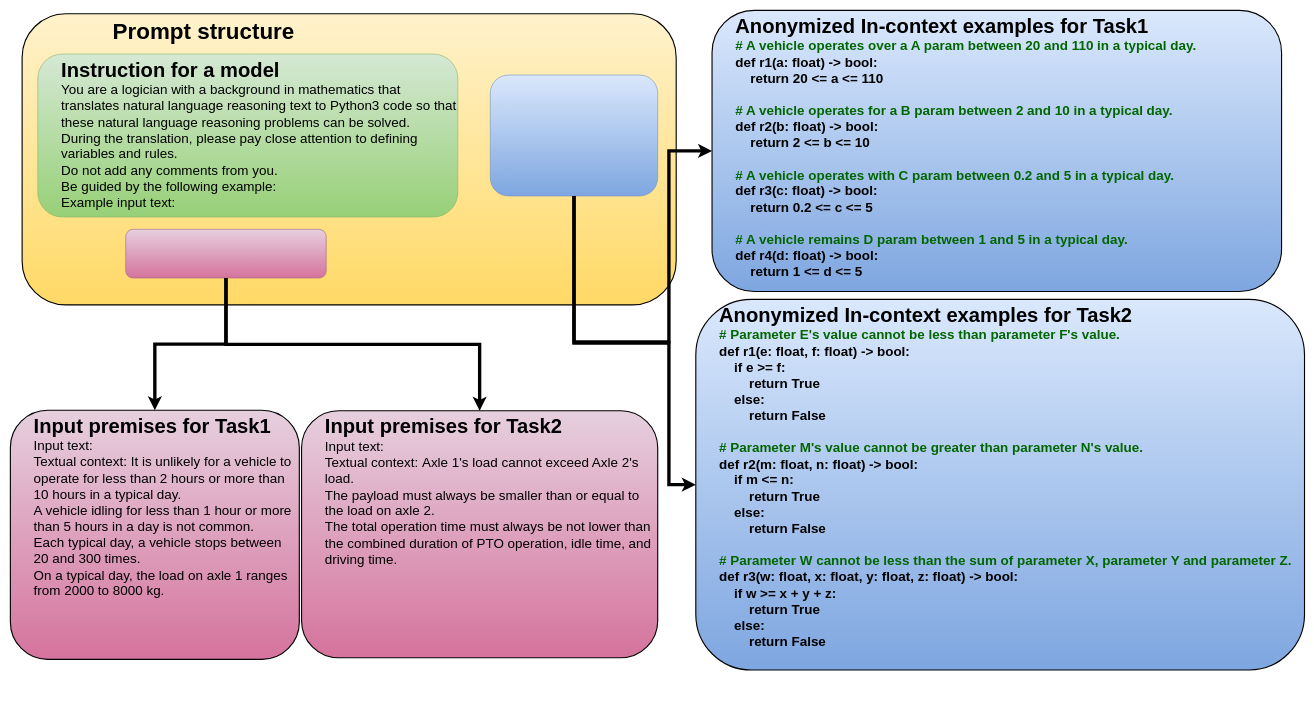
The diagram is 1314 pixels wide and 710 high, and some of its shapes have lost their labels. Each missing label, with the centre of its shape:
"Anonymized In-context examples" goes at pixel 574 135.
"Input premises" goes at pixel 225 253.
